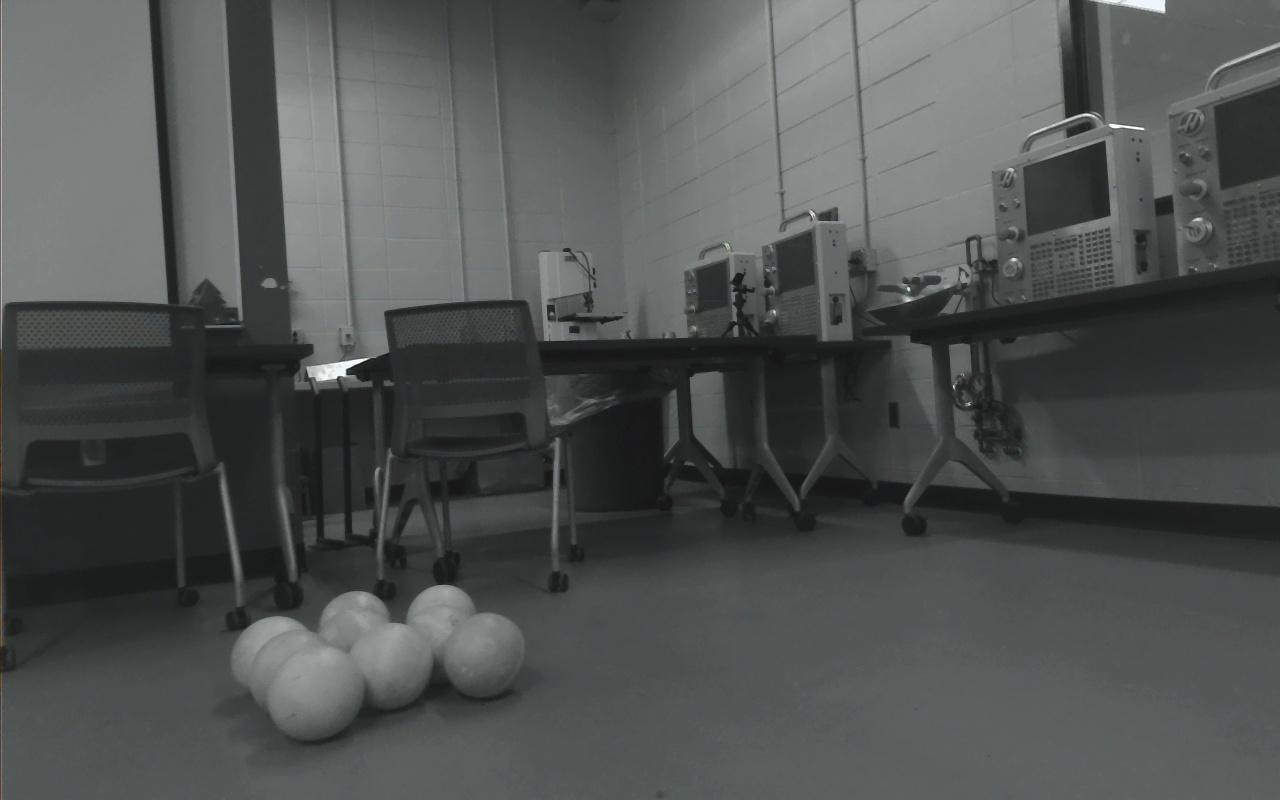Fuel: (265, 647, 364, 741), (247, 630, 334, 720), (348, 623, 435, 710), (443, 612, 527, 698), (229, 616, 308, 700), (402, 605, 474, 686), (315, 607, 389, 681), (404, 584, 475, 657), (320, 590, 390, 649)
